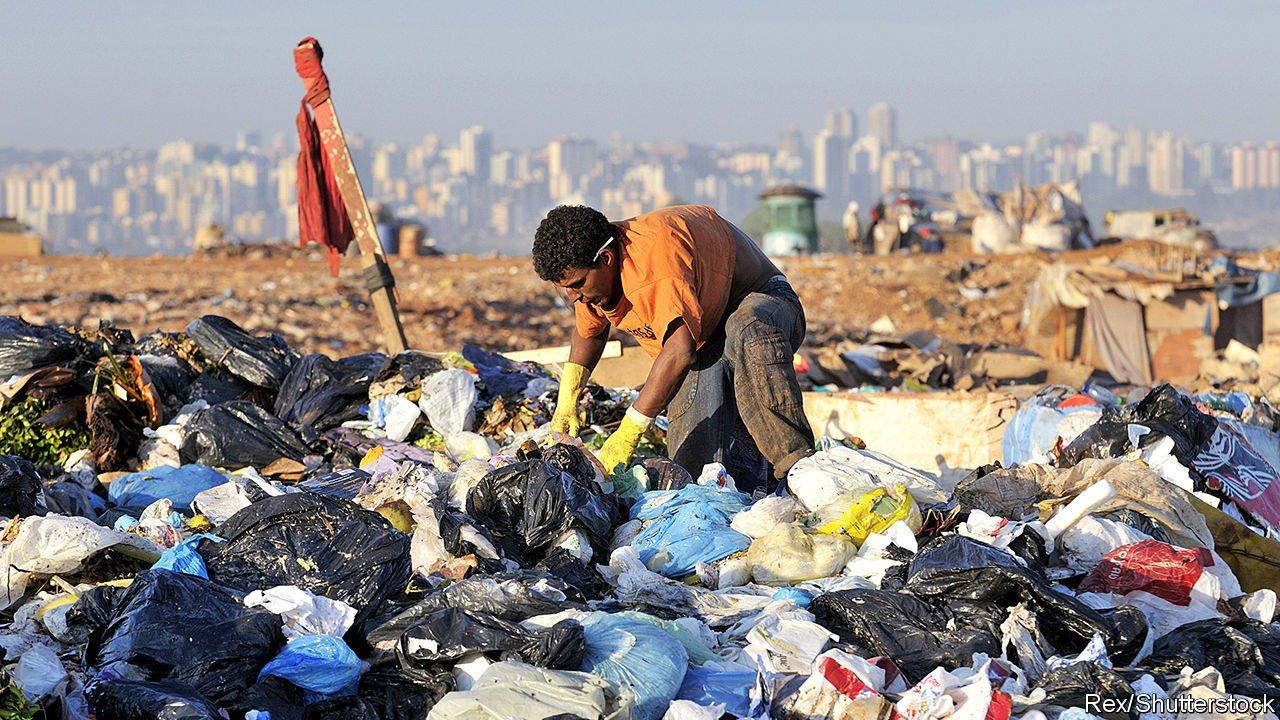garbage: (0, 471, 1280, 720), (0, 327, 540, 720)
